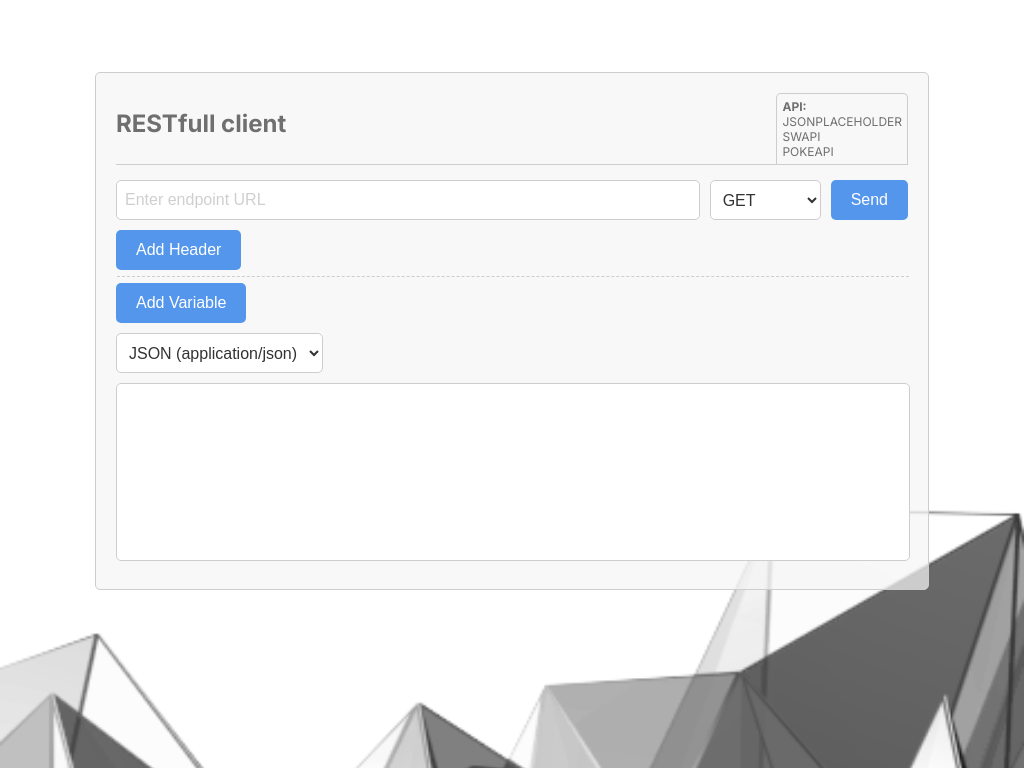
it: RestClient Component › shows an error if URL input is empty and Send is clicked
Expected: the field with placeholder "Enter endpoint URL" is empty, [116,180,700,220]
Click the button "Send" at (869, 200), box [831,180,908,220]
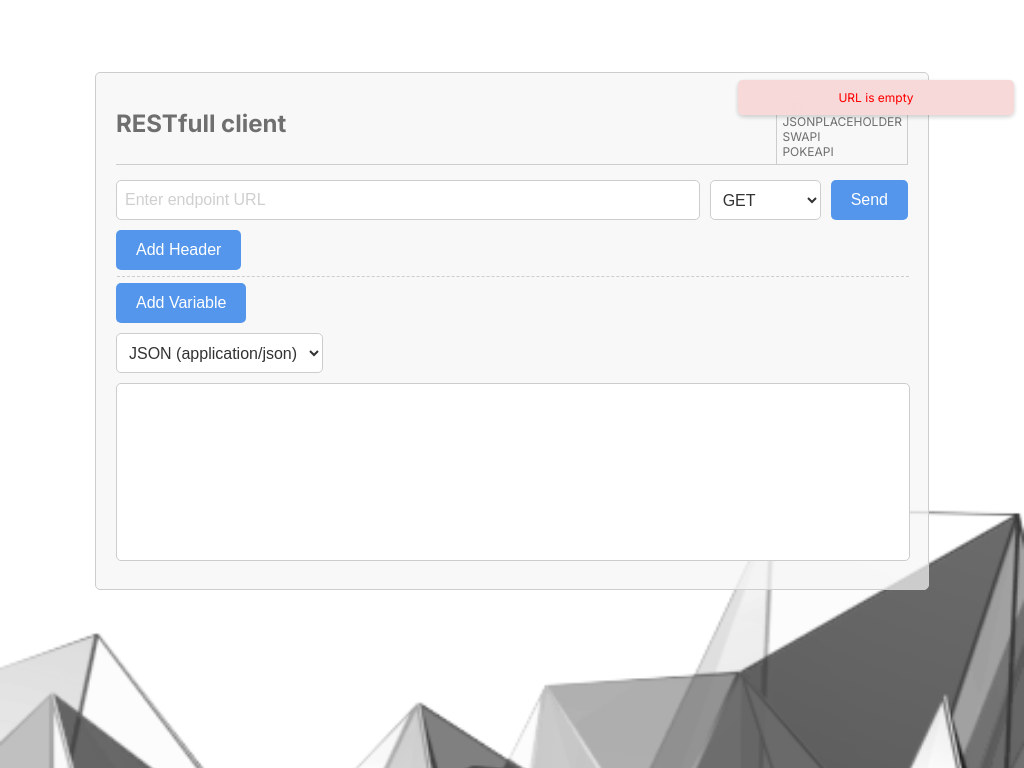
Expected: the text "URL is empty" next to "API:" is shown, [838,90,914,105]
